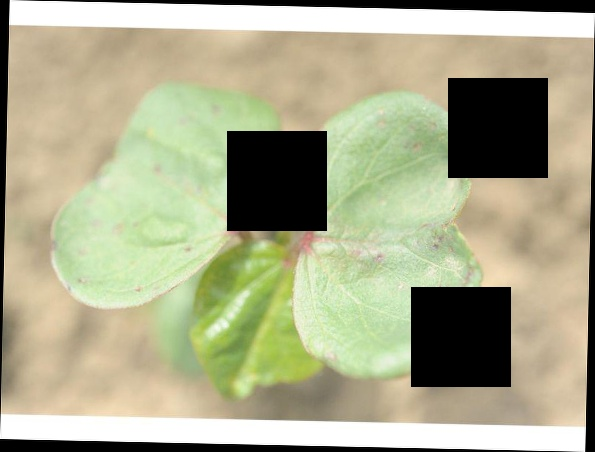cotton: (51, 82, 484, 401)
